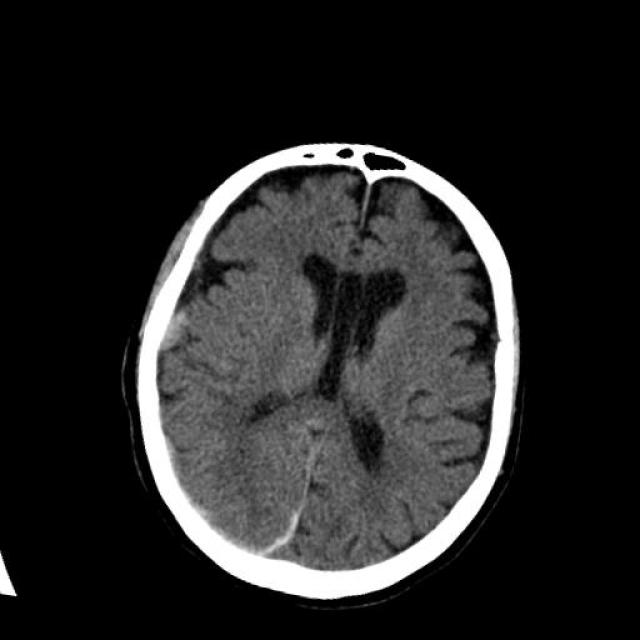Subdural: (214, 449, 358, 593)
